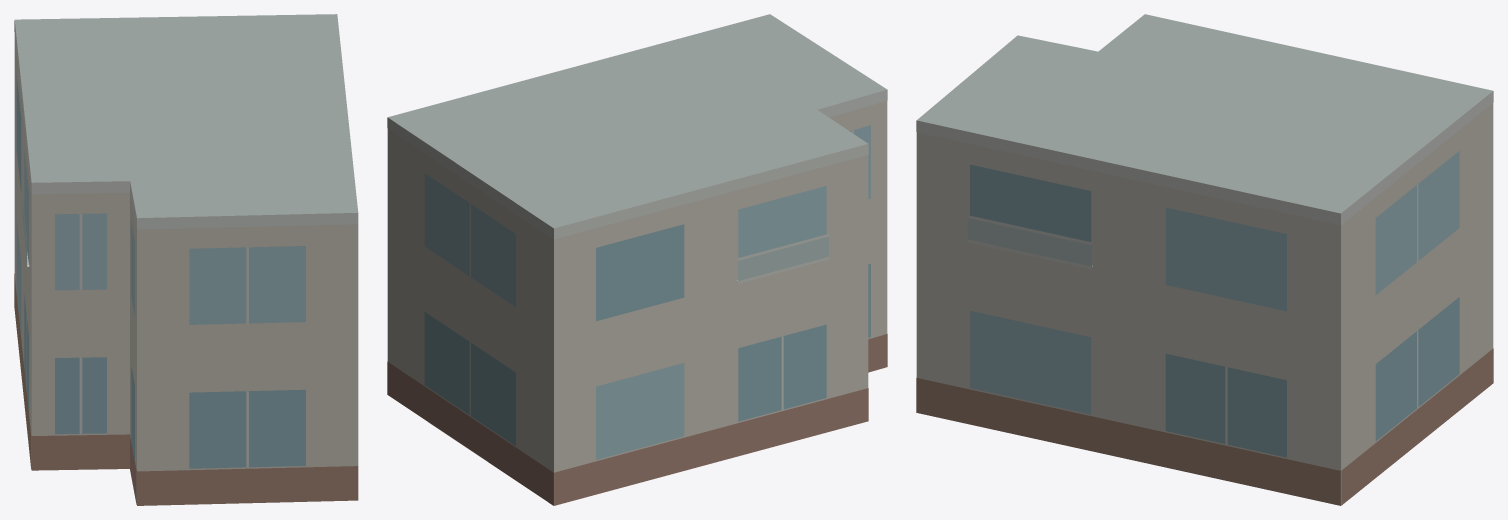
Rendered from survey-upis-32828576.glb.
3 views of the same model, side by side, from view 1: azimuth 30°, elevation 25°; view 2: azimuth 150°, elevation 25°; view 3: azimuth 270°, elevation 25° (orthographic). The views are drawn at different scales.
Parts seen in each view (by area): view 1: survey-upis-32828576.tmp; view 2: survey-upis-32828576.tmp; view 3: survey-upis-32828576.tmp.
Part boxes in pixels (bbox=[...]): survey-upis-32828576.tmp: bbox=[14, 14, 358, 505]; survey-upis-32828576.tmp: bbox=[387, 14, 887, 505]; survey-upis-32828576.tmp: bbox=[916, 14, 1493, 505].
Bounding box in the file's own units: 8.94 × 6.1 × 10.92.
